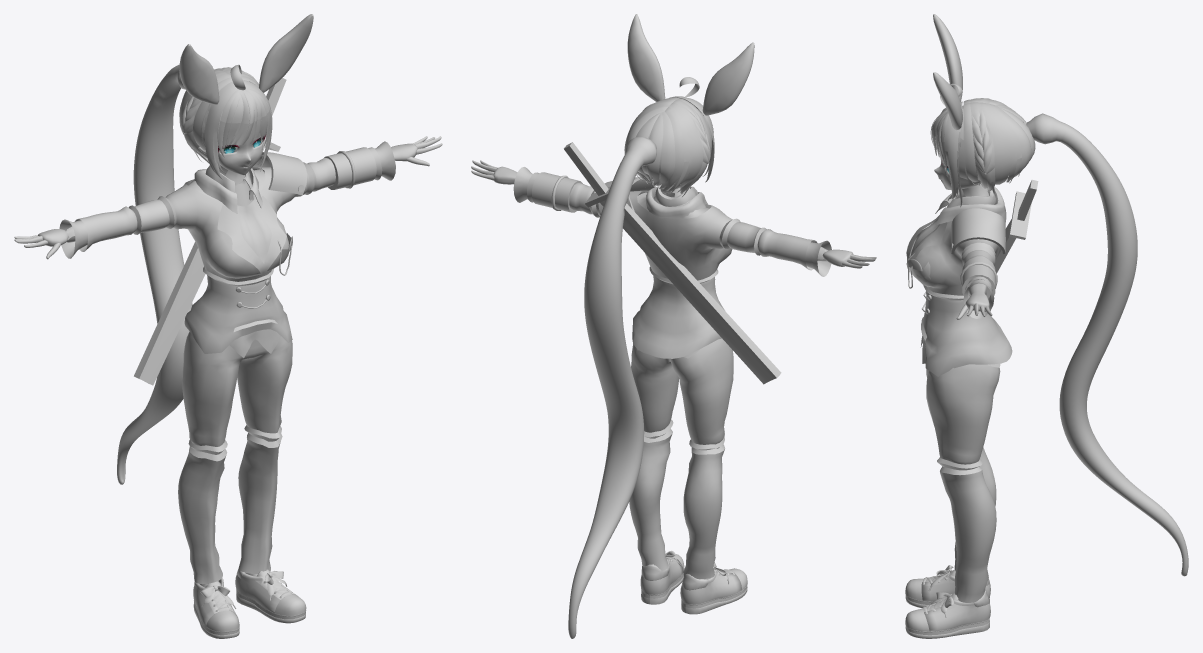
Rendered from character02.fbx.
3 renders of one model, left to right at view 1: azimuth 30°, elevation 25°; view 2: azimuth 150°, elevation 25°; view 3: azimuth 270°, elevation 25°, orthographic. The views are drawn at different scales.
Visible parts, largest first — view 1: cloth, Hair, Face, parts; view 2: cloth, Hair; view 3: cloth, Hair, parts, Face.
Part boxes in pixels (bbox=[...]): cloth: bbox=[14, 14, 442, 638]; Hair: bbox=[117, 64, 272, 484]; Face: bbox=[198, 80, 266, 175]; parts: bbox=[235, 151, 355, 308]; cloth: bbox=[471, 14, 876, 614]; Hair: bbox=[568, 77, 714, 638]; cloth: bbox=[905, 14, 1038, 638]; Hair: bbox=[930, 83, 1188, 576]; parts: bbox=[908, 253, 997, 314]; Face: bbox=[934, 105, 980, 189].
Size of the model in its own units: 70.65 by 93.9 by 42.05.
